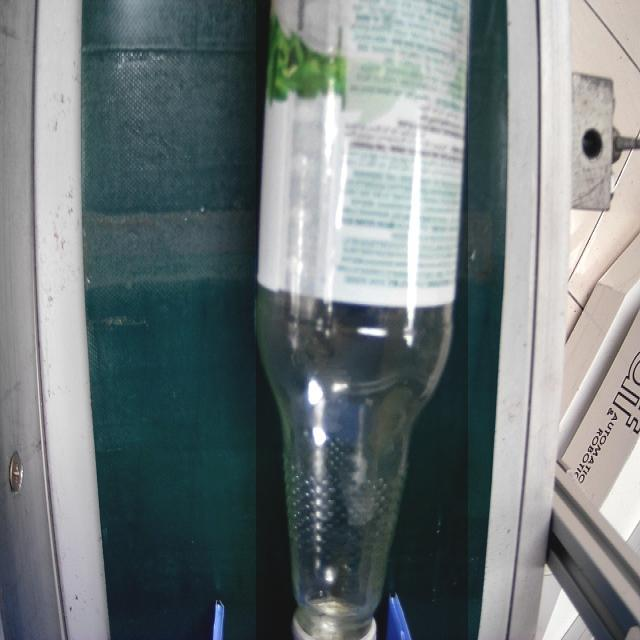Glass: (256, 0, 468, 640)
